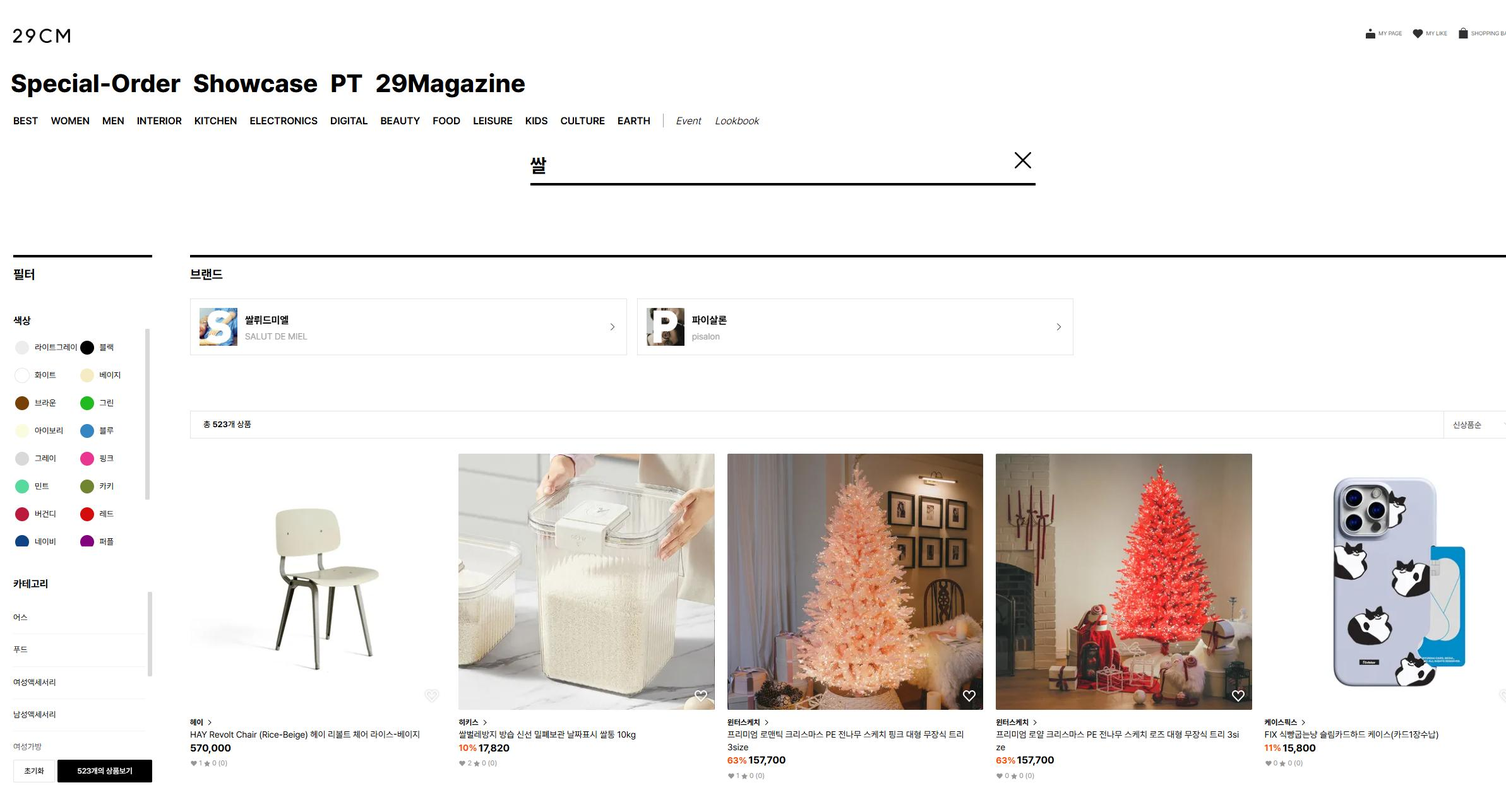button: (641, 301, 1070, 352), (194, 303, 626, 352), (7, 603, 128, 631), (8, 643, 124, 672), (8, 677, 124, 705), (11, 709, 123, 732), (5, 364, 71, 387), (17, 333, 80, 354), (249, 114, 321, 128), (85, 337, 142, 354), (49, 109, 93, 131), (378, 109, 424, 129), (557, 111, 603, 131), (2, 107, 47, 127), (13, 533, 60, 551), (79, 507, 119, 528), (15, 507, 59, 526), (468, 111, 514, 129), (189, 113, 240, 129), (725, 717, 775, 733), (136, 111, 180, 129), (1363, 24, 1404, 43), (14, 449, 59, 466), (332, 109, 373, 127), (83, 369, 134, 383), (672, 115, 709, 134), (79, 421, 118, 439), (718, 119, 768, 133), (1462, 24, 1505, 39), (80, 396, 119, 412), (79, 478, 118, 494), (81, 537, 122, 552), (14, 476, 51, 492), (16, 398, 65, 410), (993, 715, 1040, 727), (78, 451, 121, 464), (455, 716, 489, 732), (621, 111, 649, 130), (1419, 25, 1458, 38), (20, 423, 66, 434), (101, 104, 124, 125), (523, 113, 551, 128), (1265, 716, 1306, 726), (184, 716, 212, 730), (430, 118, 458, 127)
input_field: (530, 145, 1040, 188)
